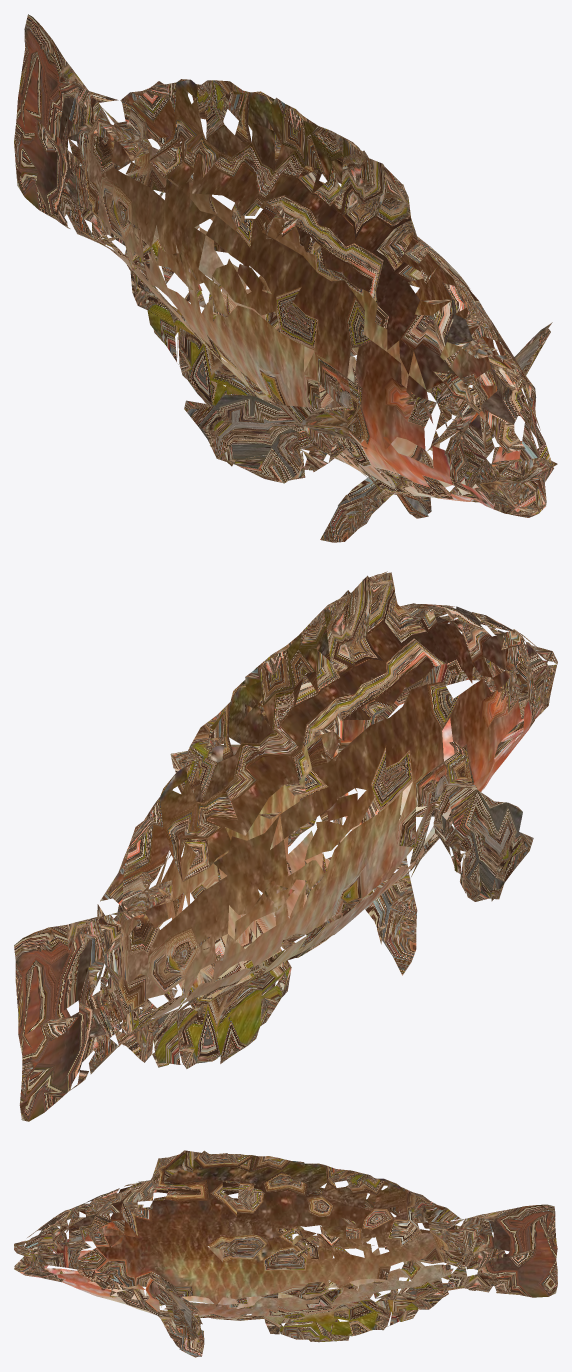
The model's file is wrasse.glb.
The picture shows the model from 3 angles, top to bottom: view 1: azimuth 30°, elevation 25°; view 2: azimuth 150°, elevation 25°; view 3: azimuth 270°, elevation 25°; orthographic projection. The views are drawn at different scales.
Parts seen in each view (by area): view 1: Object_11, Object_6; view 2: Object_11, Object_6; view 3: Object_11, Object_6.
Part boxes in pixels (x1,y1,x2,y2): Object_11: (14, 23, 557, 542); Object_6: (14, 14, 553, 517); Object_11: (16, 572, 557, 1115); Object_6: (14, 571, 549, 1121); Object_11: (14, 1150, 557, 1357); Object_6: (14, 1150, 557, 1356).
Size of the model in its own units: 3.74 by 3.68 by 9.23.
2 materials, 2 textured.
